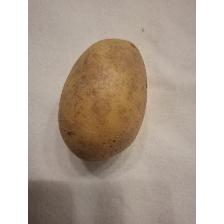Kartoffel: (56, 37, 150, 164)
